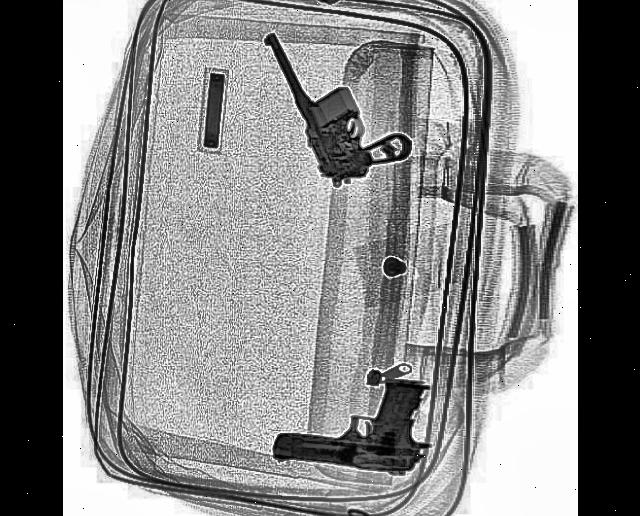Gun: (262, 0, 415, 212), (272, 371, 436, 475)
